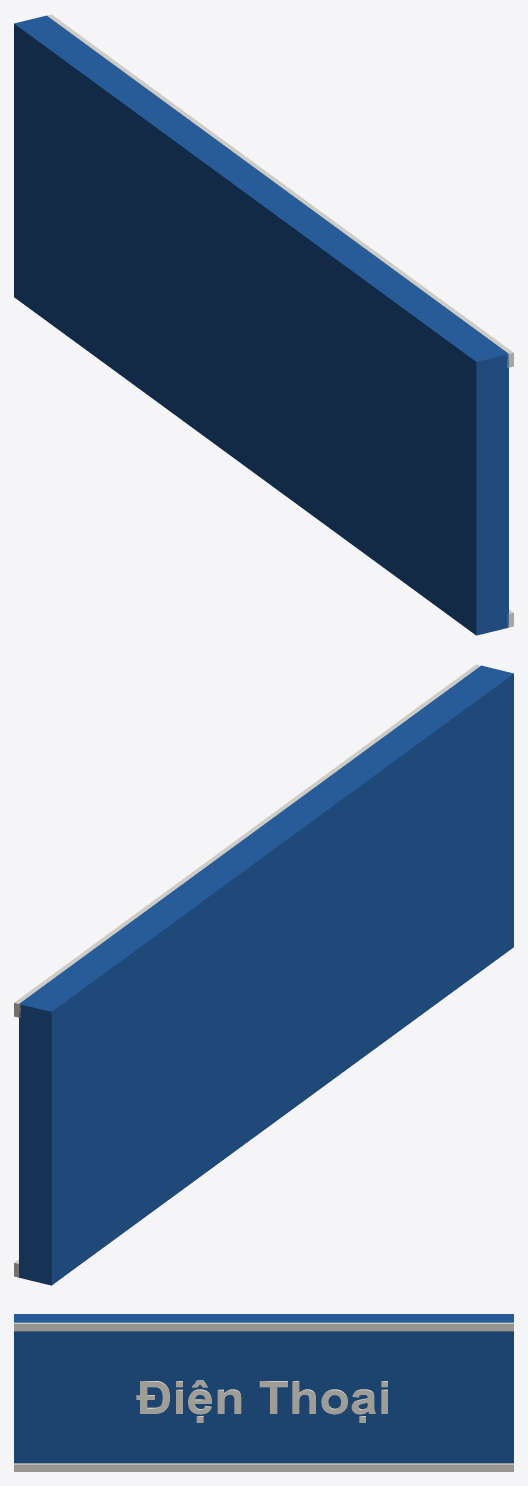
Rendered from OW_Mau_Bang_5_5_10.fbx.
3 renders of one model, top to bottom at view 1: azimuth 30°, elevation 25°; view 2: azimuth 150°, elevation 25°; view 3: azimuth 270°, elevation 25°, orthographic. The views are drawn at different scales.
Parts seen in each view (by area): view 1: OW_Bang_Điện Thoại.002; view 2: OW_Bang_Điện Thoại.002; view 3: OW_Bang_Điện Thoại.002, Chữ • Điện Thoại.002_Mesh.
Part boxes in pixels (box(x1,y1,x2,y2)): OW_Bang_Điện Thoại.002: box(14, 14, 513, 635); OW_Bang_Điện Thoại.002: box(14, 664, 513, 1285); OW_Bang_Điện Thoại.002: box(14, 1314, 513, 1471); Chữ • Điện Thoại.002_Mesh: box(136, 1380, 387, 1422).
Bounding box in the file's own units: 0.24 × 1.6 × 4.9.
